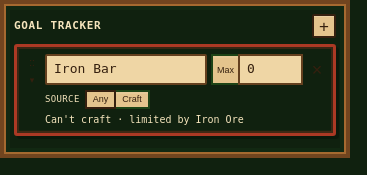
GoalSection › turns an impossible Max goal back into an empty manual draft
Click the button with aria-label "Use maximum craftable target" at (224, 70), box x1=211 y1=54 x2=238 y2=85
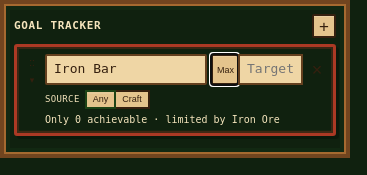
Result: the number field named "Goal target" is not empty at x1=238 y1=54 x2=303 y2=85
